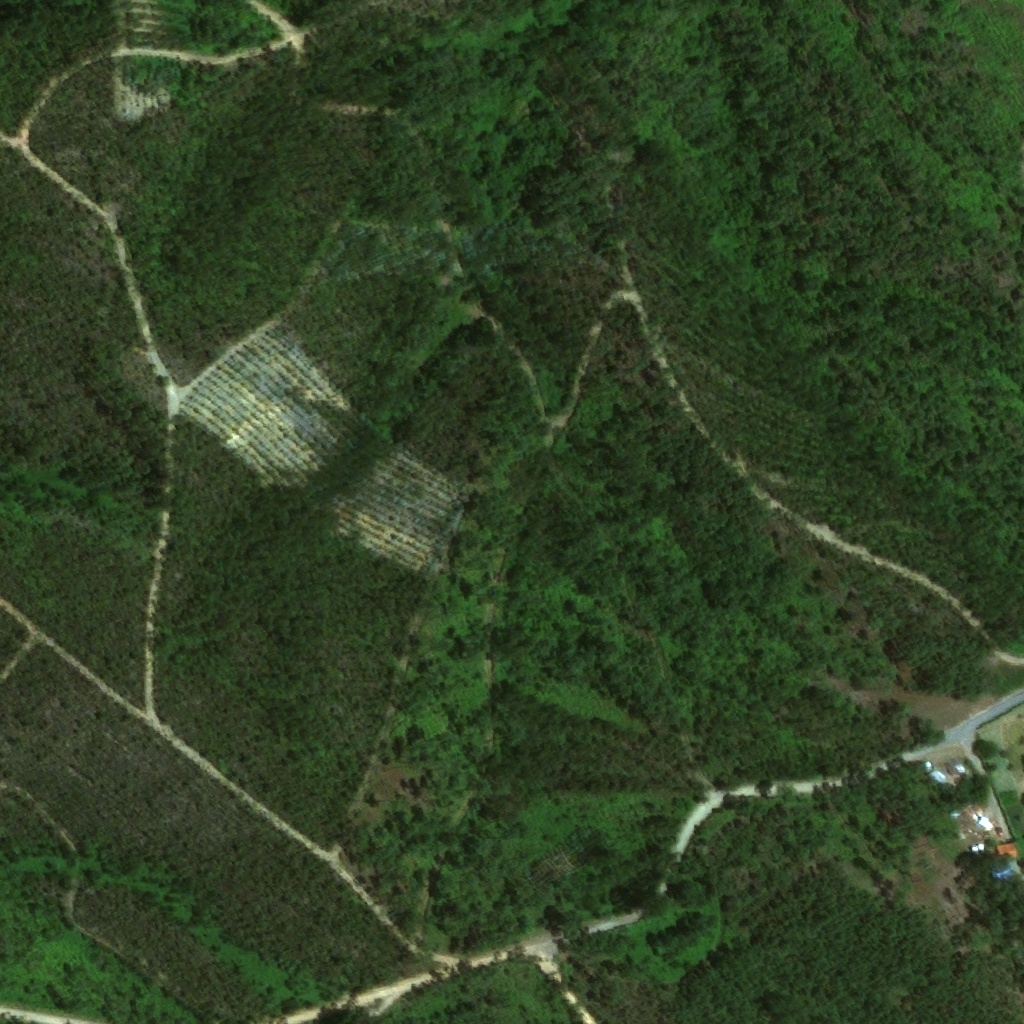0 no-damage: (990, 860, 1021, 885), (997, 841, 1017, 858)
